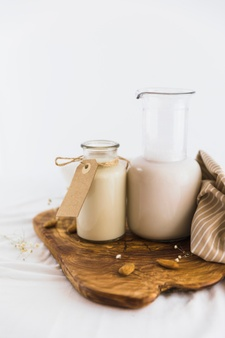glass of milk: (130, 144, 198, 244), (75, 145, 128, 243)
